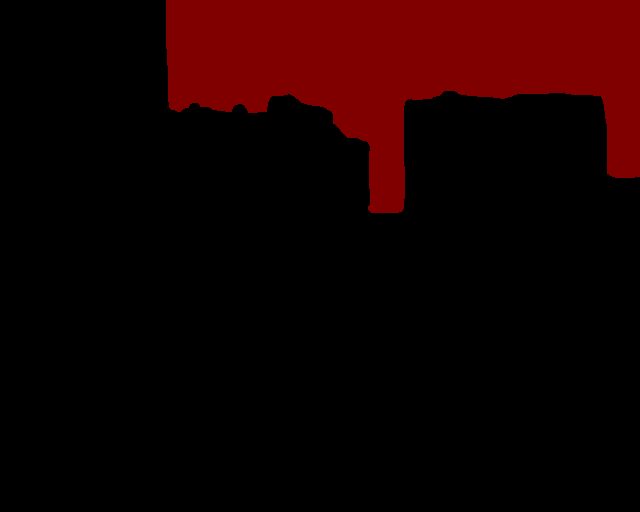Sky: (167, 1, 639, 213)
